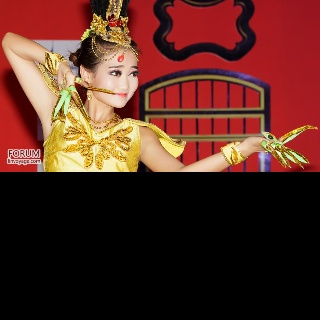without_mask: (89, 45, 141, 108)
